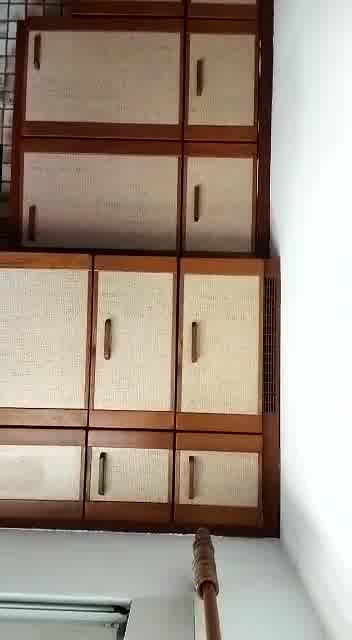cabinet_door: (17, 15, 181, 135), (21, 137, 181, 250), (177, 262, 266, 434), (90, 254, 176, 430), (0, 261, 88, 424), (183, 23, 266, 142), (181, 144, 268, 254), (177, 435, 266, 531), (86, 430, 173, 528), (0, 430, 86, 525)
handle: (180, 451, 203, 513), (189, 50, 215, 104), (89, 447, 115, 500), (22, 199, 45, 246), (29, 29, 49, 79), (189, 180, 206, 227), (103, 314, 114, 362), (191, 318, 200, 364)
